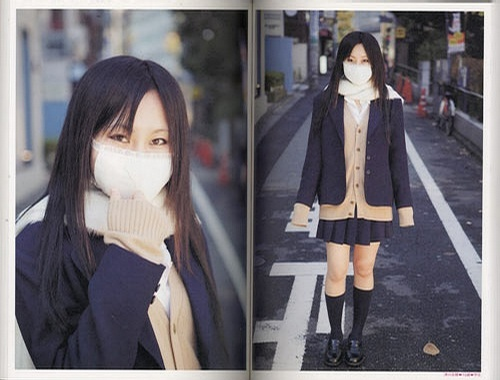face_mask: (92, 92, 175, 202), (342, 46, 374, 84)
